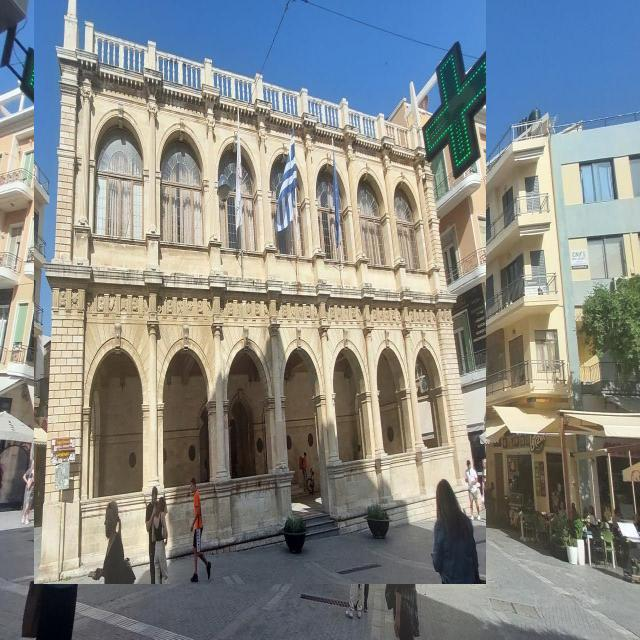Loggia: (35, 1, 487, 585)
